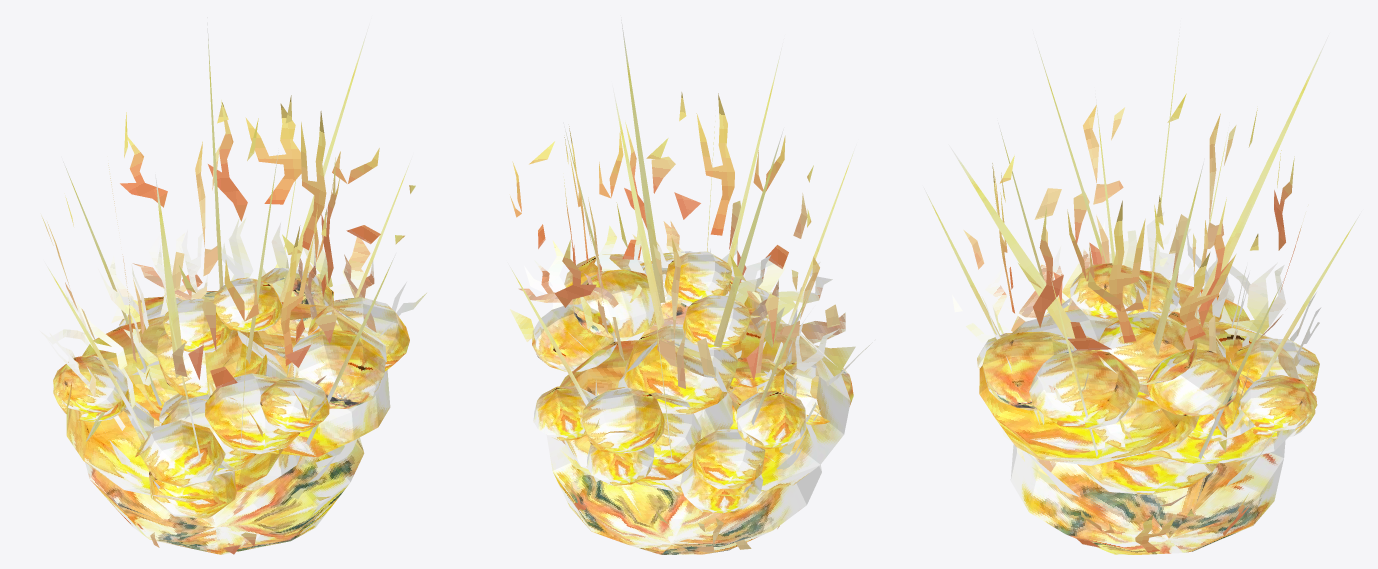
The model's file is timeframe_explosion.glb.
3 views of the same model, side by side, from view 1: azimuth 30°, elevation 25°; view 2: azimuth 150°, elevation 25°; view 3: azimuth 270°, elevation 25° (orthographic). The views are drawn at different scales.
Visible parts, largest first — view 1: MSAM_Explosion_1_KivikausiMajaMat; view 2: MSAM_Explosion_1_KivikausiMajaMat; view 3: MSAM_Explosion_1_KivikausiMajaMat.
Boxes of the visible parts, bbox=[...] form: MSAM_Explosion_1_KivikausiMajaMat: bbox=[39, 17, 426, 554]; MSAM_Explosion_1_KivikausiMajaMat: bbox=[507, 17, 875, 554]; MSAM_Explosion_1_KivikausiMajaMat: bbox=[923, 27, 1361, 554].
Size of the model in its own units: 6.05 by 7.48 by 6.04.
Materials: 1 (1 with a texture image).
